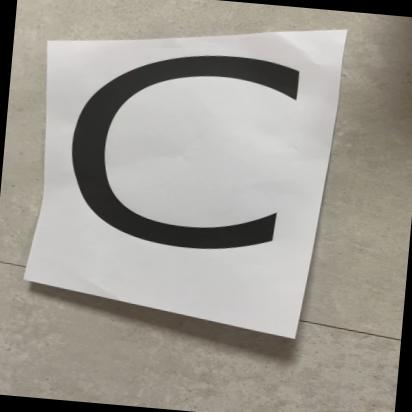seat: (39, 18, 341, 322)
